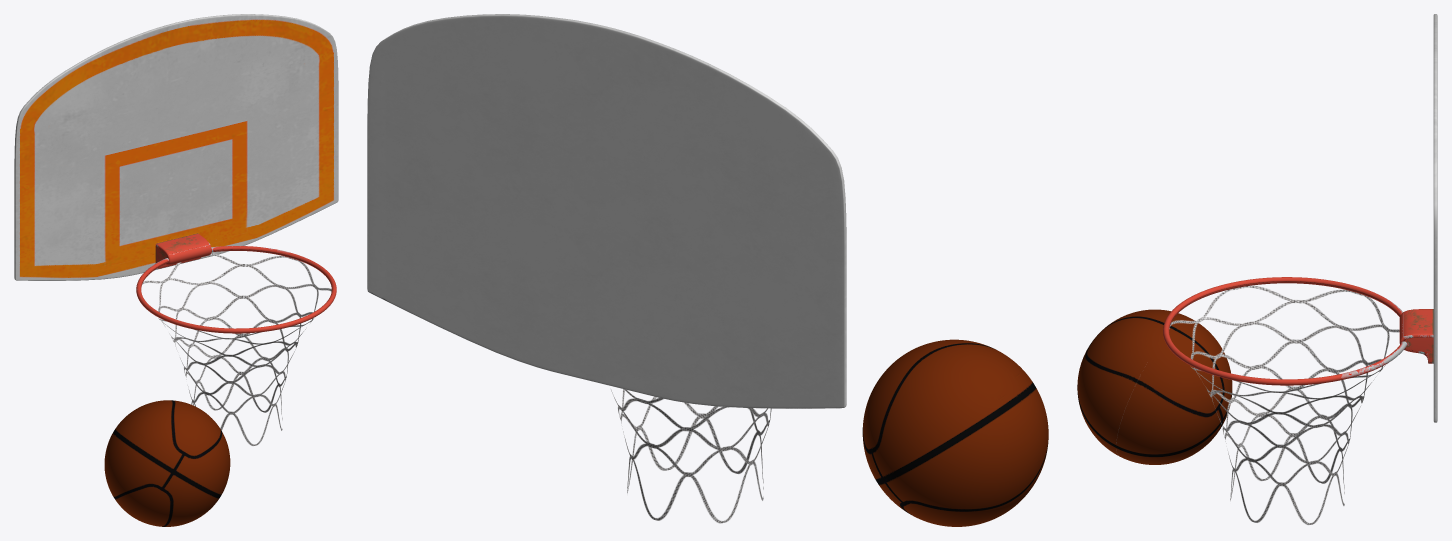
The model's file is basketball_hoop.glb.
The picture shows the model from 3 angles, left to right: view 1: azimuth 30°, elevation 25°; view 2: azimuth 150°, elevation 25°; view 3: azimuth 270°, elevation 25°; orthographic projection. The views are drawn at different scales.
Visible parts, largest first — view 1: board, ball, net; view 2: board, ball, net; view 3: ball, net, board.
Part boxes in pixels (x1=…): board: x1=14, y1=14, x2=338, y2=333; ball: x1=104, y1=400, x2=230, y2=526; net: x1=142, y1=253, x2=331, y2=445; board: x1=367, y1=14, x2=846, y2=408; ball: x1=862, y1=339, x2=1048, y2=526; net: x1=611, y1=389, x2=771, y2=523; ball: x1=1077, y1=309, x2=1232, y2=464; net: x1=1169, y1=285, x2=1399, y2=525; board: x1=1163, y1=14, x2=1437, y2=422.
Size of the model in its own units: 0.1563 by 0.1699 by 0.1163.
Materials: 3 (3 with a texture image).
